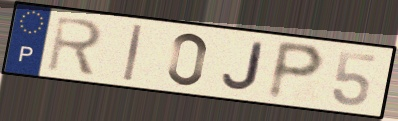0: (166, 31, 209, 87)
5: (329, 49, 378, 108)
I: (121, 22, 146, 84)
J: (219, 40, 266, 92)
P: (264, 38, 328, 102)
R: (44, 14, 105, 77)
